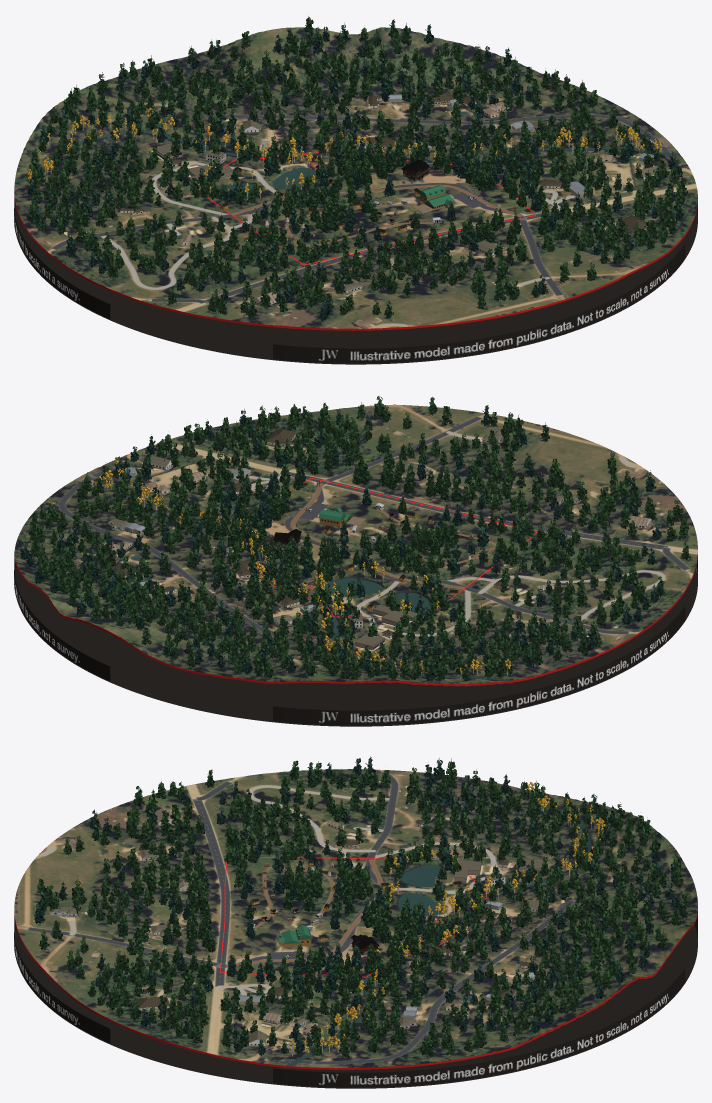
3 views of the same model, one above another, from view 1: azimuth 30°, elevation 25°; view 2: azimuth 150°, elevation 25°; view 3: azimuth 270°, elevation 25° (orthographic).
Parts seen in each view (by area): view 1: ground_m, trees, plinth_base, parktrees, plinth_print, plinth_band, water_water, neighbours_bk_roof_tiles_grey_b5aaa2, trees_cottonwood_gold, trees_aspen_gold, growtrees, neighbours_bk_roof_tiles_grey (+1 smaller); view 2: ground_m, trees, plinth_base, parktrees, plinth_print, plinth_band, water_water, neighbours_bk_roof_tiles_grey_b5aaa2, growtrees, trees_cottonwood_gold, trees_aspen_gold, neighbours_bk_roof_tiles_grey (+1 smaller); view 3: ground_m, trees, parktrees, plinth_base, plinth_print, plinth_band, water_water, trees_cottonwood_gold, neighbours_bk_roof_tiles_grey_b5aaa2, trees_aspen_gold, neighbours_bk_roof_tiles_grey, growtrees (+1 smaller).
Boxes of the visible parts, <box> form: ground_m: <box>14,27,697,328</box>; trees: <box>26,16,687,321</box>; plinth_base: <box>14,207,697,364</box>; parktrees: <box>197,133,526,263</box>; plinth_print: <box>14,208,685,363</box>; plinth_band: <box>14,27,697,330</box>; water_water: <box>15,130,680,198</box>; neighbours_bk_roof_tiles_grey_b5aaa2: <box>119,94,647,231</box>; trees_cottonwood_gold: <box>27,107,661,187</box>; trees_aspen_gold: <box>27,108,657,189</box>; growtrees: <box>268,177,339,231</box>; neighbours_bk_roof_tiles_grey: <box>243,120,657,291</box>; ground_m: <box>14,405,697,684</box>; trees: <box>20,396,691,681</box>; plinth_base: <box>14,566,697,726</box>; parktrees: <box>239,466,534,615</box>; plinth_print: <box>14,570,685,725</box>; plinth_band: <box>14,404,697,686</box>; water_water: <box>99,466,511,681</box>; neighbours_bk_roof_tiles_grey_b5aaa2: <box>106,429,516,640</box>; growtrees: <box>379,520,487,563</box>; trees_cottonwood_gold: <box>101,457,510,674</box>; trees_aspen_gold: <box>97,460,510,674</box>; neighbours_bk_roof_tiles_grey: <box>108,431,577,623</box>; ground_m: <box>14,769,697,1067</box>; trees: <box>34,756,690,1058</box>; parktrees: <box>224,839,485,974</box>; plinth_base: <box>14,924,697,1088</box>; plinth_print: <box>14,932,685,1087</box>; plinth_band: <box>14,769,697,1069</box>; water_water: <box>285,797,591,1066</box>; trees_cottonwood_gold: <box>289,782,605,1053</box>; neighbours_bk_roof_tiles_grey_b5aaa2: <box>136,816,564,1008</box>; trees_aspen_gold: <box>293,783,603,1052</box>; neighbours_bk_roof_tiles_grey: <box>51,849,539,1043</box>; growtrees: <box>283,847,355,904</box>.
Bounding box in the file's own units: 0.6006 × 0.1848 × 0.6003.
139 materials, 71 textured.
